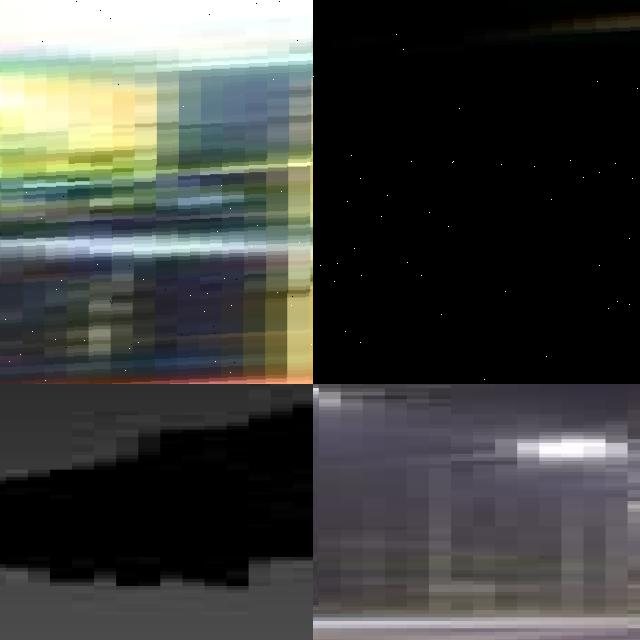street light: (313, 0, 640, 384), (0, 0, 313, 384), (407, 436, 627, 604), (583, 468, 640, 604)
